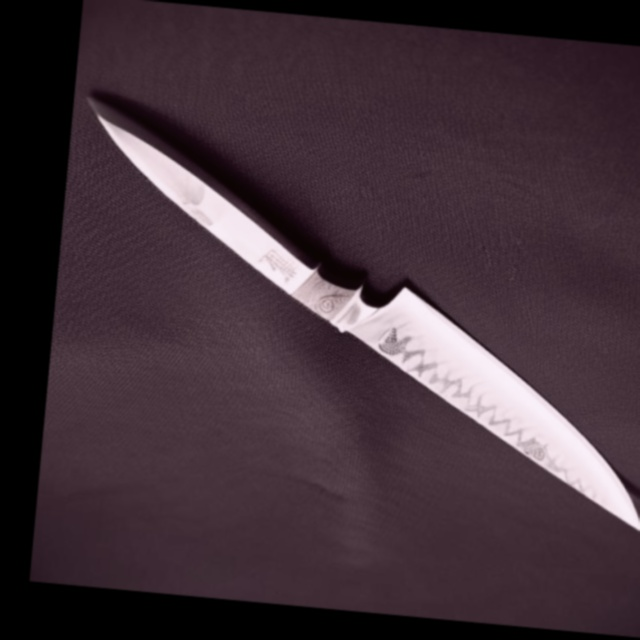Sharp-Object: (38, 76, 640, 547)
